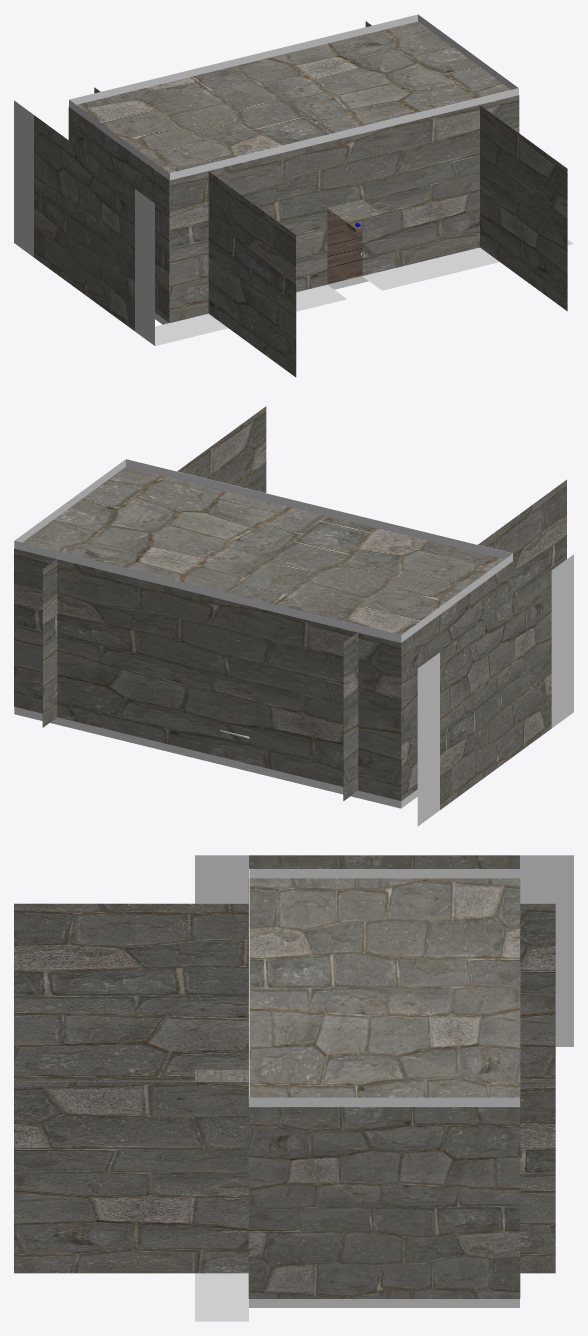
The model's file is stanza puzzle.fbx.
The picture shows the model from 3 angles, top to bottom: view 1: azimuth 30°, elevation 25°; view 2: azimuth 150°, elevation 25°; view 3: azimuth 270°, elevation 25°; orthographic projection. The views are drawn at different scales.
Visible parts, largest first — view 1: object_184, Tetto ufficio, object_183, object_184.002, object_184.001, object_180, object_191, object_203, object_205, object_189, object_185, object_195 (+3 smaller); view 2: object_184, Tetto ufficio, object_183, object_184.002, object_184.001, object_180, object_191, object_203, object_205, object_199, object_202, object_204; view 3: Tetto ufficio, object_184, object_184.001, object_184.002, object_180, object_183, object_204, object_202, object_189, object_191, object_198, object_187.
Part boxes in pixels (box(x1,y1,x2,y2)): object_184: box(68, 95, 519, 322); Tetto ufficio: box(77, 21, 511, 172); object_183: box(34, 115, 134, 330); object_184.002: box(94, 87, 296, 377); object_184.001: box(365, 21, 567, 311); object_180: box(14, 100, 33, 257); object_191: box(135, 189, 154, 345); object_203: box(169, 88, 518, 180); object_205: box(69, 14, 417, 104); object_189: box(362, 240, 573, 290); object_185: box(155, 284, 346, 345); object_195: box(327, 208, 361, 284); object_184: box(14, 475, 513, 800); Tetto ufficio: box(22, 467, 504, 634); object_183: box(440, 571, 551, 809); object_184.002: box(343, 479, 566, 801); object_184.001: box(42, 406, 266, 727); object_180: box(417, 652, 439, 826); object_191: box(551, 554, 573, 727); object_203: box(126, 459, 512, 559); object_205: box(14, 541, 401, 642); object_199: box(14, 707, 401, 808); object_202: box(401, 553, 512, 642); object_204: box(14, 459, 125, 542); Tetto ufficio: box(249, 878, 519, 1097); object_184: box(248, 878, 520, 1298); object_184.001: box(14, 1081, 555, 1273); object_184.002: box(14, 903, 555, 1081); object_180: box(520, 855, 573, 1046); object_183: box(249, 855, 519, 868); object_204: box(249, 1097, 519, 1106); object_202: box(249, 869, 519, 878); object_189: box(195, 1273, 248, 1321); object_191: box(195, 855, 248, 903); object_198: box(249, 1299, 519, 1307); object_187: box(195, 1070, 248, 1081).
Size of the model in its own units: 1200 by 429 by 1034.
